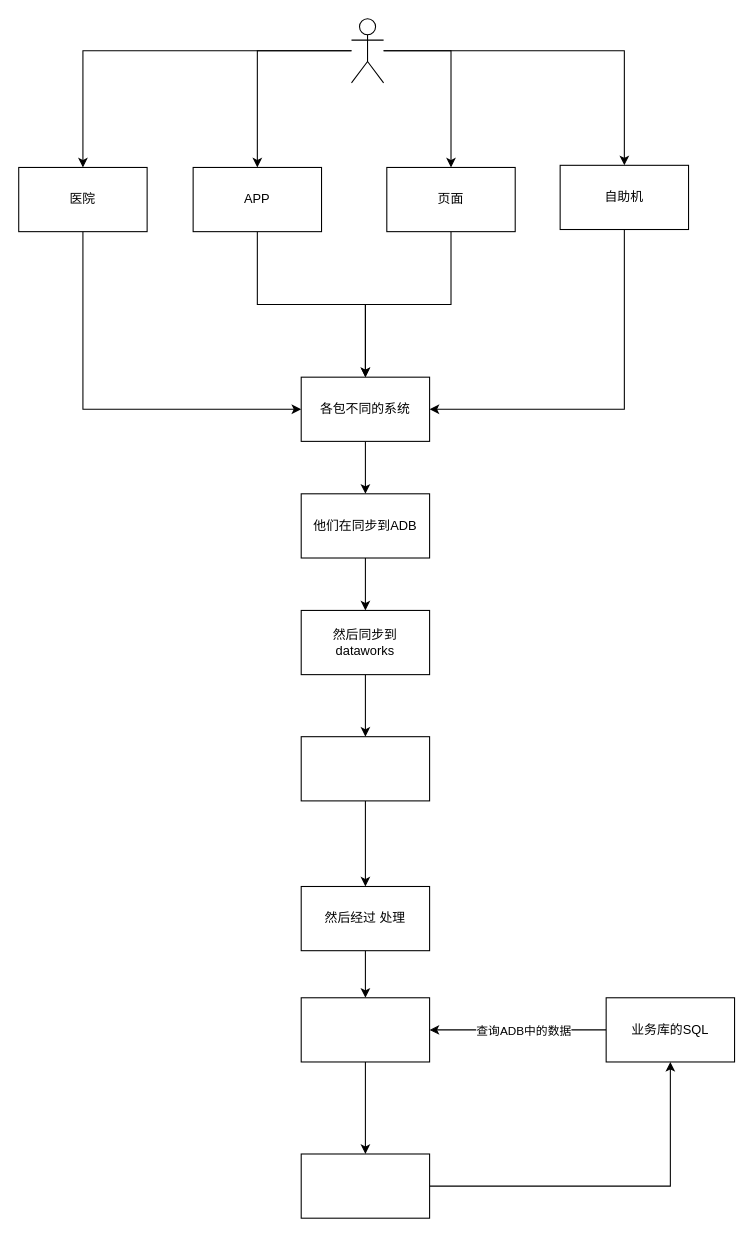
The diagram is 753 pixels wide and 1237 high, and some of its shapes have lost their labels. The box of each missing label's shape, as (x1, y1, x2, y2) in pixels:
同步到 ADB: (300, 997, 430, 1062)
然后同步给到我们的dataworks: (300, 736, 430, 801)
用户: (350, 18, 384, 83)
返回结果: (300, 1153, 430, 1218)
